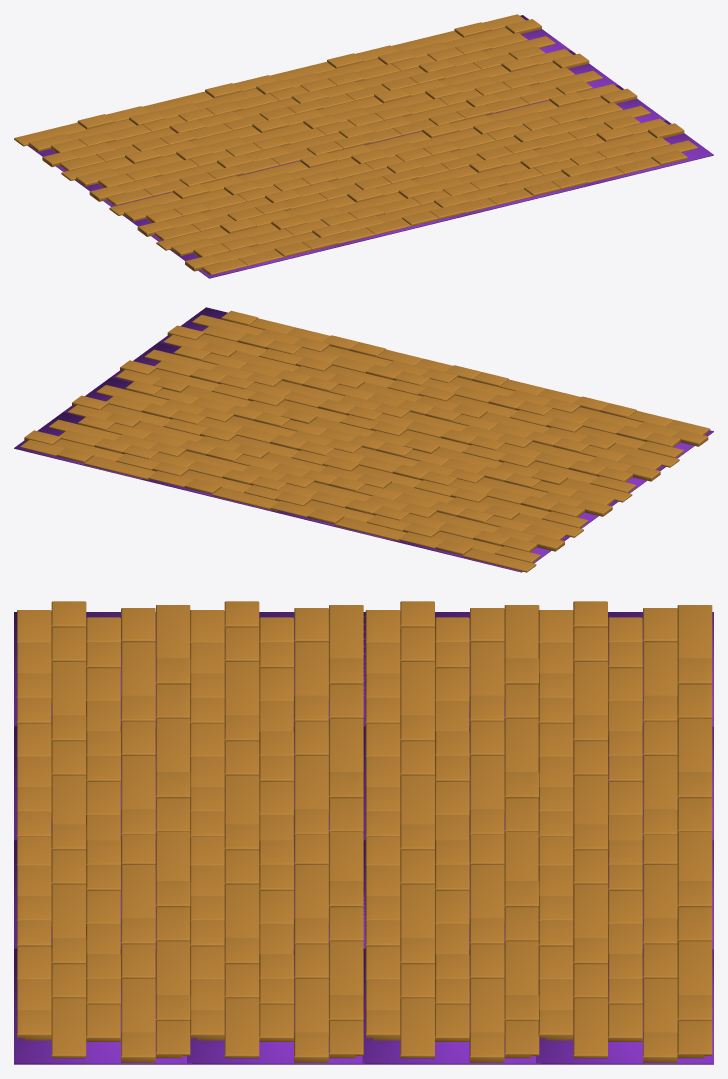
The model's file is wall.fbx.
3 views of the same model, one above another, from view 1: azimuth 30°, elevation 25°; view 2: azimuth 150°, elevation 25°; view 3: azimuth 270°, elevation 25° (orthographic). The views are drawn at different scales.
Parts seen in each view (by area): view 1: Box085.003, Box072.012, Box072, Box072.004, Box072.008, Box085, Box081.003, Box081.011, Box081.007, Box072.015, Box081.015, Box072.005 (+45 smaller); view 2: Box085.015, Box072.012, Box072.015, Box072.013, Box072.014, Box072.004, Box081.015, Box081.007, Box072, Box072.008, Box081.003, Box081.011 (+42 smaller); view 3: Box085.003, Box085.011, Box085.015, Box085.007, Box081.003, Box081.007, Box081.011, Box081.015, Box072.013, Box081.004, Box072.012, Box081.006 (+257 smaller).
Part boxes in pixels (bbox=[...]): Box085.003: bbox=[584, 120, 713, 186]; Box072.012: bbox=[14, 122, 86, 146]; Box072: bbox=[156, 227, 228, 250]; Box072.004: bbox=[109, 192, 181, 215]; Box072.008: bbox=[61, 157, 133, 180]; Box085: bbox=[170, 245, 337, 278]; Box081.003: bbox=[626, 140, 697, 161]; Box081.011: bbox=[531, 70, 602, 91]; Box081.007: bbox=[579, 106, 650, 126]; Box072.015: bbox=[392, 31, 462, 51]; Box081.015: bbox=[484, 36, 555, 57]; Box072.005: bbox=[237, 161, 308, 181]; Box085.015: bbox=[14, 412, 142, 479]; Box072.012: bbox=[463, 548, 536, 572]; Box072.015: bbox=[84, 456, 156, 479]; Box072.013: bbox=[335, 517, 406, 541]; Box072.014: bbox=[212, 487, 278, 511]; Box072.004: bbox=[559, 478, 632, 502]; Box081.015: bbox=[48, 419, 120, 440]; Box081.007: bbox=[144, 349, 216, 370]; Box072: bbox=[608, 444, 679, 467]; Box072.008: bbox=[512, 514, 583, 537]; Box081.003: bbox=[192, 315, 264, 335]; Box081.011: bbox=[96, 385, 168, 405]; Box085.003: bbox=[14, 948, 191, 1064]; Box085.011: bbox=[362, 948, 540, 1064]; Box085.015: bbox=[536, 949, 713, 1064]; Box085.007: bbox=[187, 949, 365, 1064]; Box081.003: bbox=[51, 998, 86, 1058]; Box081.007: bbox=[224, 998, 259, 1058]; Box081.011: bbox=[400, 998, 434, 1058]; Box081.015: bbox=[573, 998, 607, 1058]; Box072.013: bbox=[677, 718, 712, 772]; Box081.004: bbox=[224, 662, 259, 715]; Box072.012: bbox=[677, 605, 712, 658]; Box081.006: bbox=[224, 884, 259, 938].
Bounding box in the file's own units: 1258 × 10.64 × 817.
